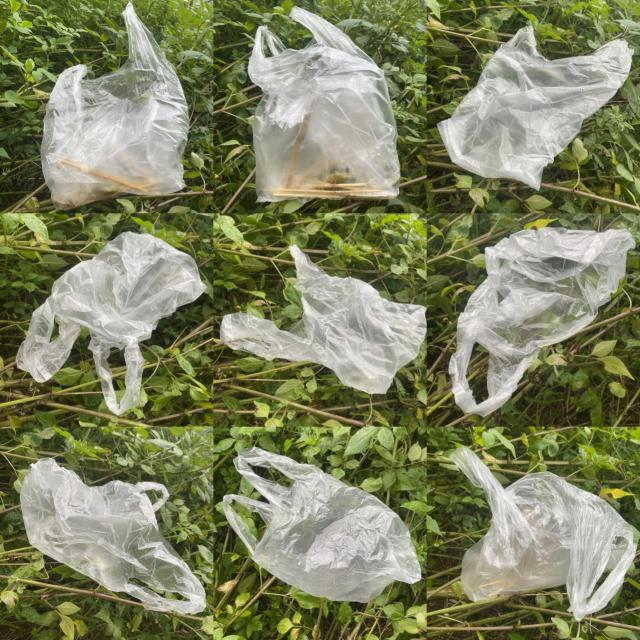Single-layer Plastic: (449, 228, 635, 416), (16, 231, 206, 415), (450, 446, 636, 620), (438, 26, 634, 189), (220, 245, 426, 394), (222, 448, 421, 602), (41, 4, 189, 209), (249, 8, 400, 201), (20, 459, 206, 614)
